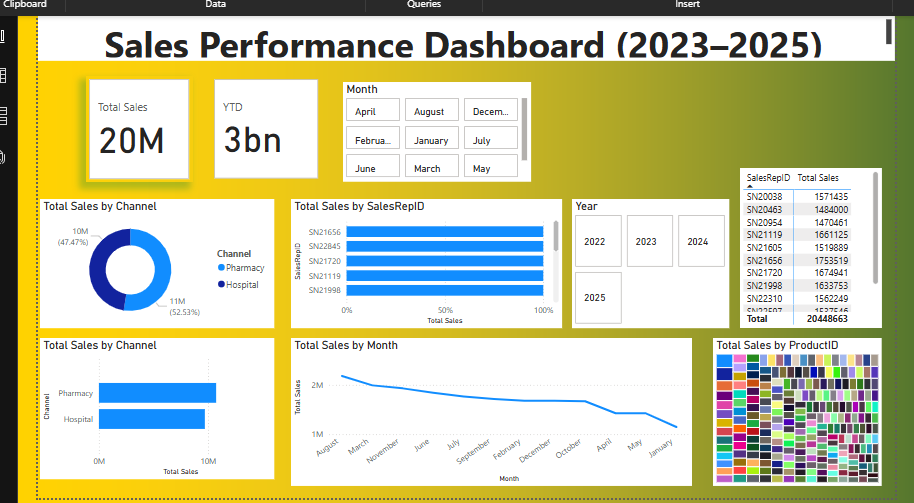

The dashboard page shown, as its layout file describes it:
{"tool":"powerbi","page":{"name":"Page 1","canvas":[1280,720],"ordinal":0},"visuals":[{"type":"cardVisual","fields":{"Data":["DimChannel.Total Sales"]},"box":[71.7,89.6,159.8,159],"z":0},{"type":"barChart","fields":{"Y":["DimChannel.Total Sales"],"Category":["DimChannel.Channel"]},"box":[3,481,349.5,210.6],"z":1000},{"type":"lineChart","fields":{"Category":["DimDate.Month"],"Y":["DimChannel.Total Sales"]},"box":[377.9,481,599,221.1],"z":2000},{"type":"advancedSlicerVisual","fields":{"Values":["DimDate.Month"]},"box":[455.6,98.6,280.8,149.4],"z":3000},{"type":"donutChart","fields":{"Category":["DimChannel.Channel"],"Y":["DimChannel.Total Sales"]},"box":[3,273.4,349.5,192.7],"z":4000},{"type":"pivotTable","fields":{"Rows":["Sales2023-2025.SalesRepID"],"Values":["DimChannel.Total Sales"]},"box":[1048.6,227.1,212.1,239],"z":5000},{"type":"hundredPercentStackedBarChart","fields":{"Category":["Sales2023-2025.SalesRepID"],"Y":["DimChannel.Total Sales"]},"box":[377.9,273.4,404.8,192.7],"z":6000},{"type":"cardVisual","fields":{"Data":["DimChannel.YTD"]},"box":[258.4,89.6,165.8,158.3],"z":8000},{"type":"treemap","fields":{"Group":["Sales2023-2025.ProductID"],"Values":["DimChannel.Total Sales"]},"box":[1008.3,481,252.4,221.1],"z":9000},{"type":"advancedSlicerVisual","fields":{"Values":["DimDate.Year"]},"box":[797.7,273.4,234.5,192.7],"z":10000},{"type":"textbox","box":[0,0,1280,66.7],"z":11000}]}

Visuals, with their boxes in screenshot pixels (x1, y1, x2, y2):
cardVisual - DimChannel.Total Sales: Rect(64, 74, 174, 183)
barChart - DimChannel.Total Sales x DimChannel.Channel: Rect(16, 343, 257, 488)
lineChart - DimDate.Month x DimChannel.Total Sales: Rect(274, 343, 686, 495)
advancedSlicerVisual - DimDate.Month: Rect(328, 80, 521, 182)
donutChart - DimChannel.Channel x DimChannel.Total Sales: Rect(16, 200, 257, 333)
pivotTable - Sales2023-2025.SalesRepID x DimChannel.Total Sales: Rect(736, 168, 882, 333)
hundredPercentStackedBarChart - Sales2023-2025.SalesRepID x DimChannel.Total Sales: Rect(274, 200, 553, 333)
cardVisual - DimChannel.YTD: Rect(192, 74, 306, 182)
treemap - Sales2023-2025.ProductID x DimChannel.Total Sales: Rect(708, 343, 882, 495)
advancedSlicerVisual - DimDate.Year: Rect(563, 200, 724, 333)
textbox: Rect(14, 12, 895, 58)
